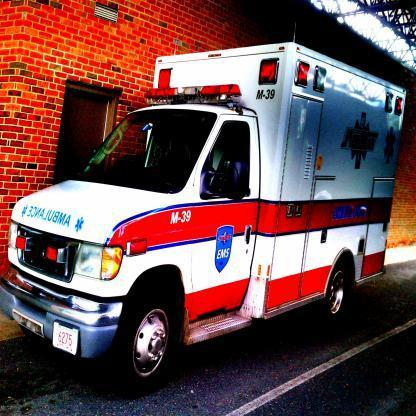Ambulance: (15, 198, 78, 234)
